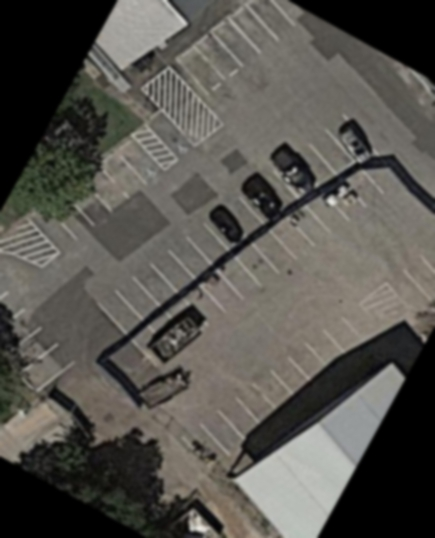parkingspot: (93, 112, 389, 339), (178, 312, 378, 475), (179, 193, 354, 329), (25, 135, 167, 257), (171, 0, 301, 102), (0, 278, 79, 395), (383, 241, 435, 319), (143, 109, 200, 164)
